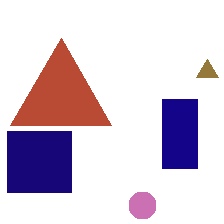circle: (129, 192, 155, 218)
rectangle: (7, 131, 71, 192), (162, 99, 197, 168)
triangle: (10, 38, 111, 125), (196, 59, 218, 77)
